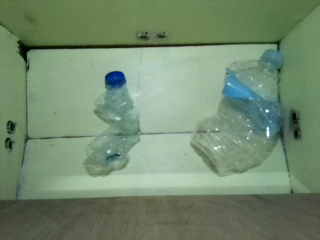damaged-bottle: (190, 48, 289, 177), (84, 70, 141, 174)
